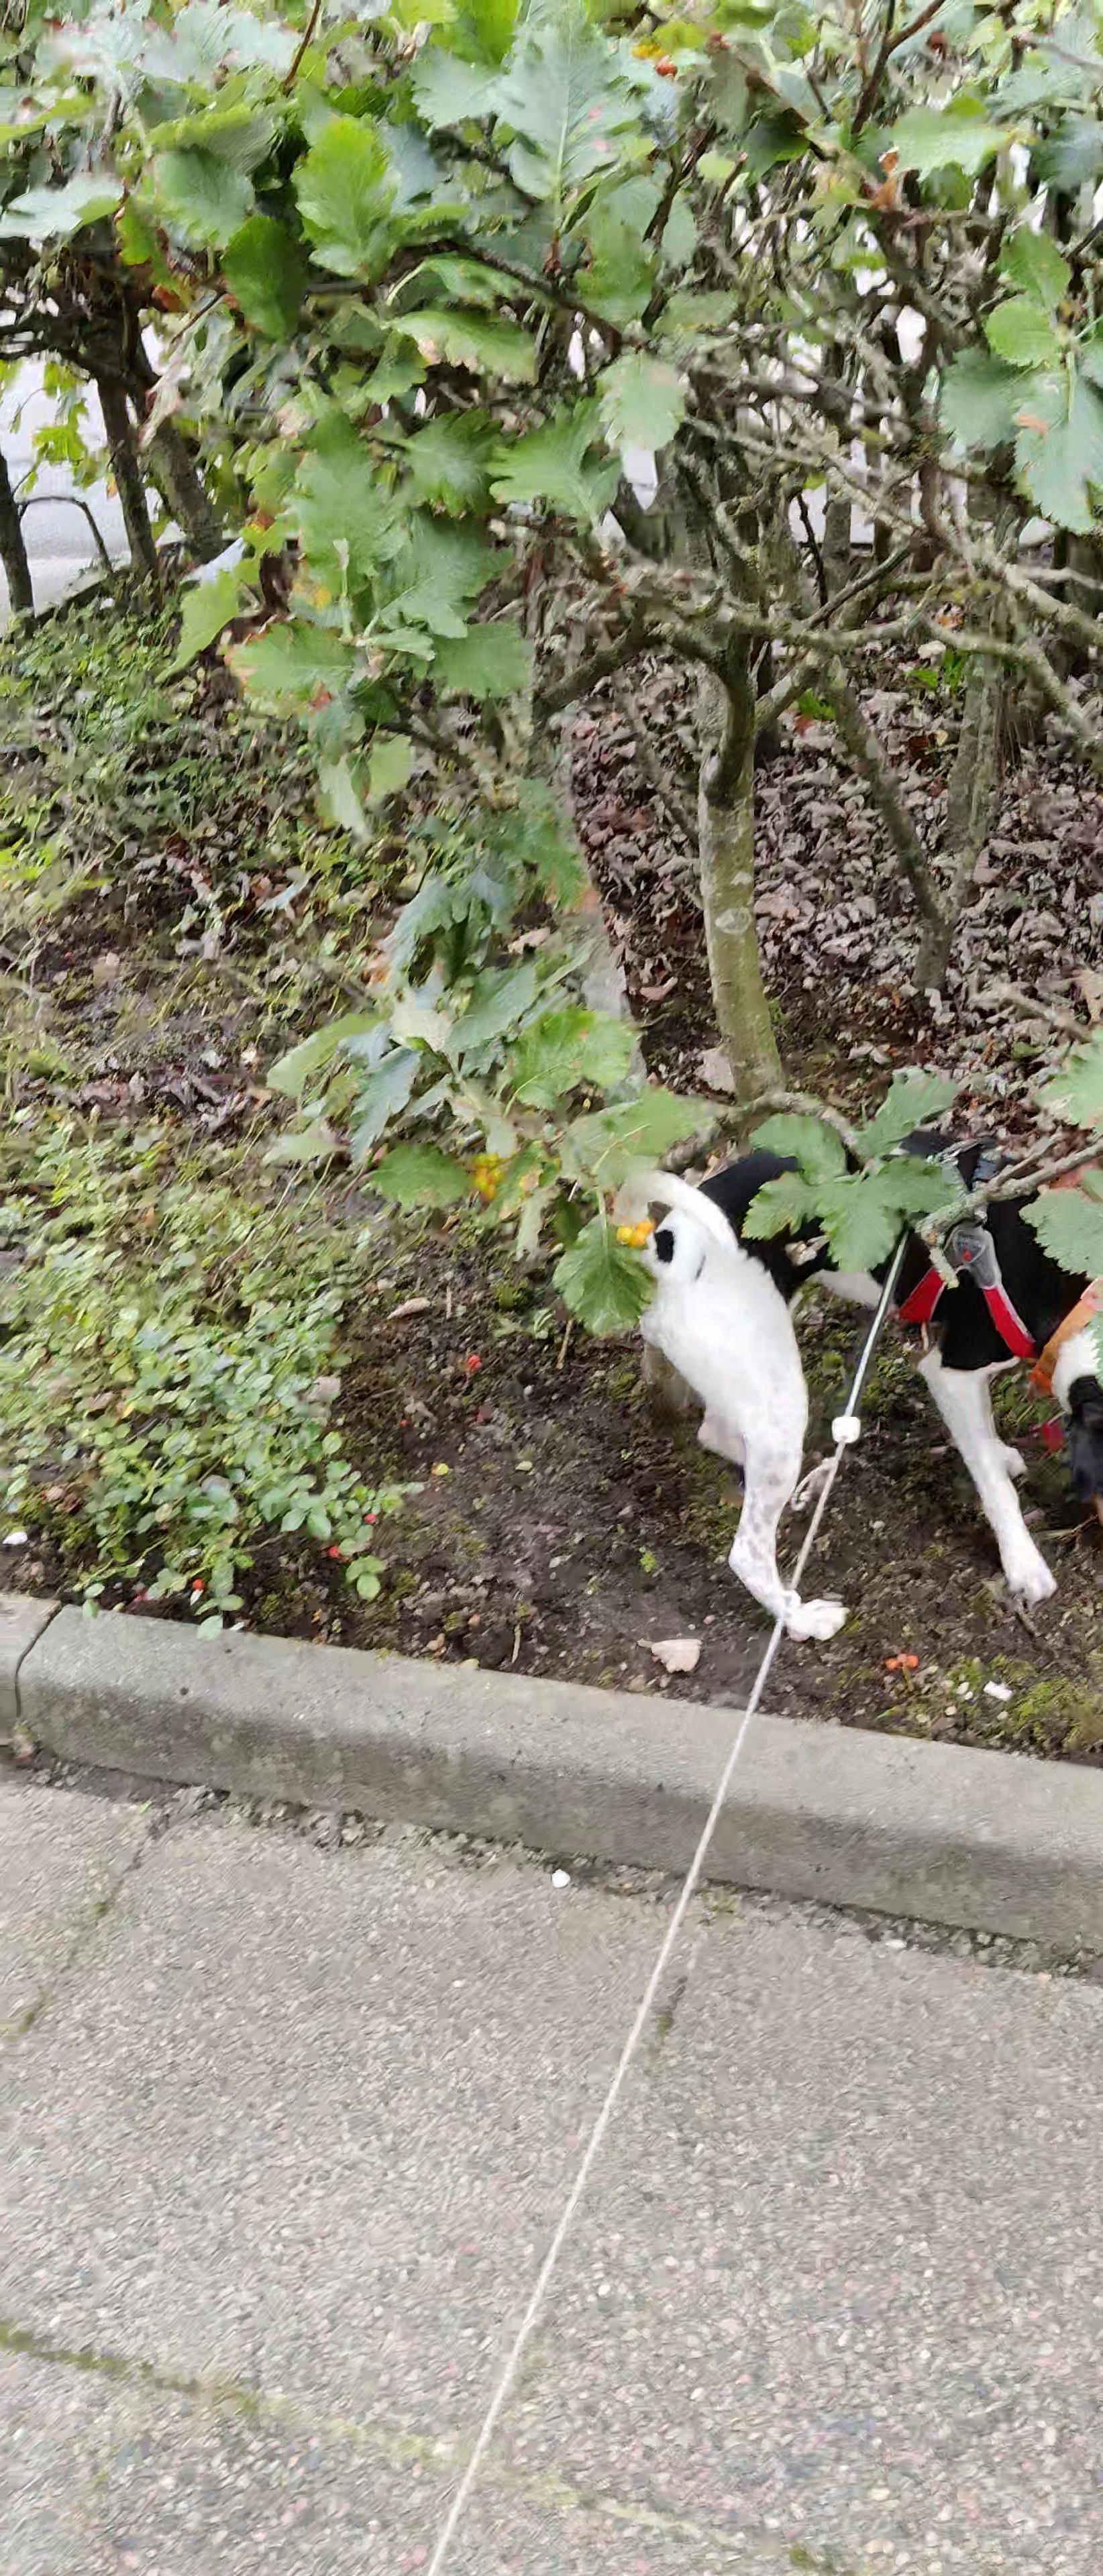Dog: (574, 1097, 1103, 1672)
